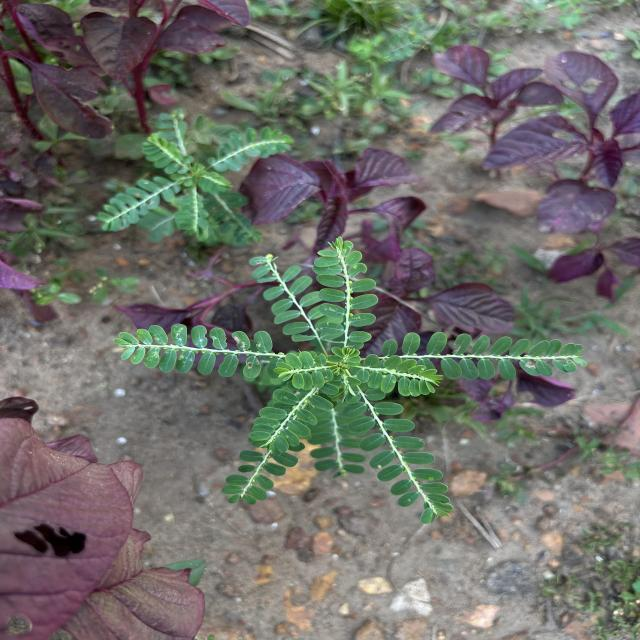Phyllanthus niruri: (341, 388, 456, 526), (383, 329, 589, 382), (110, 322, 274, 380), (314, 235, 381, 350), (248, 386, 336, 456), (357, 353, 445, 398), (270, 349, 336, 392)
